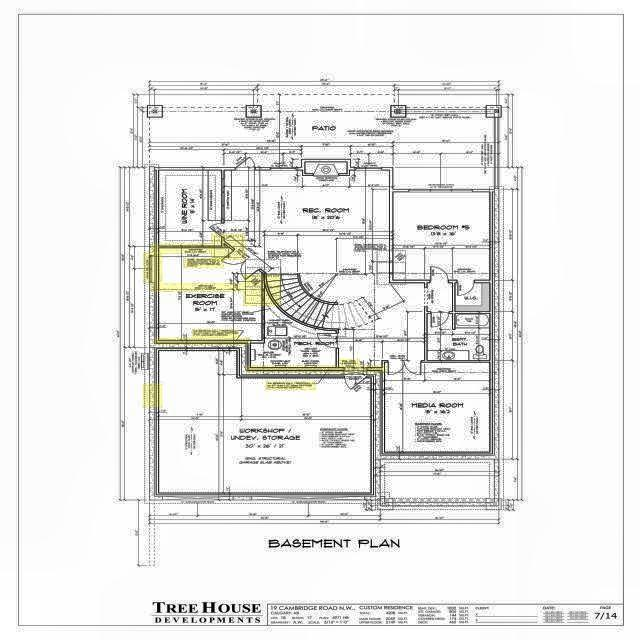room: (159, 351, 371, 493), (159, 248, 262, 340), (385, 362, 490, 452), (393, 192, 490, 280), (250, 286, 336, 368), (159, 170, 221, 246), (427, 314, 490, 360), (455, 283, 490, 311)
